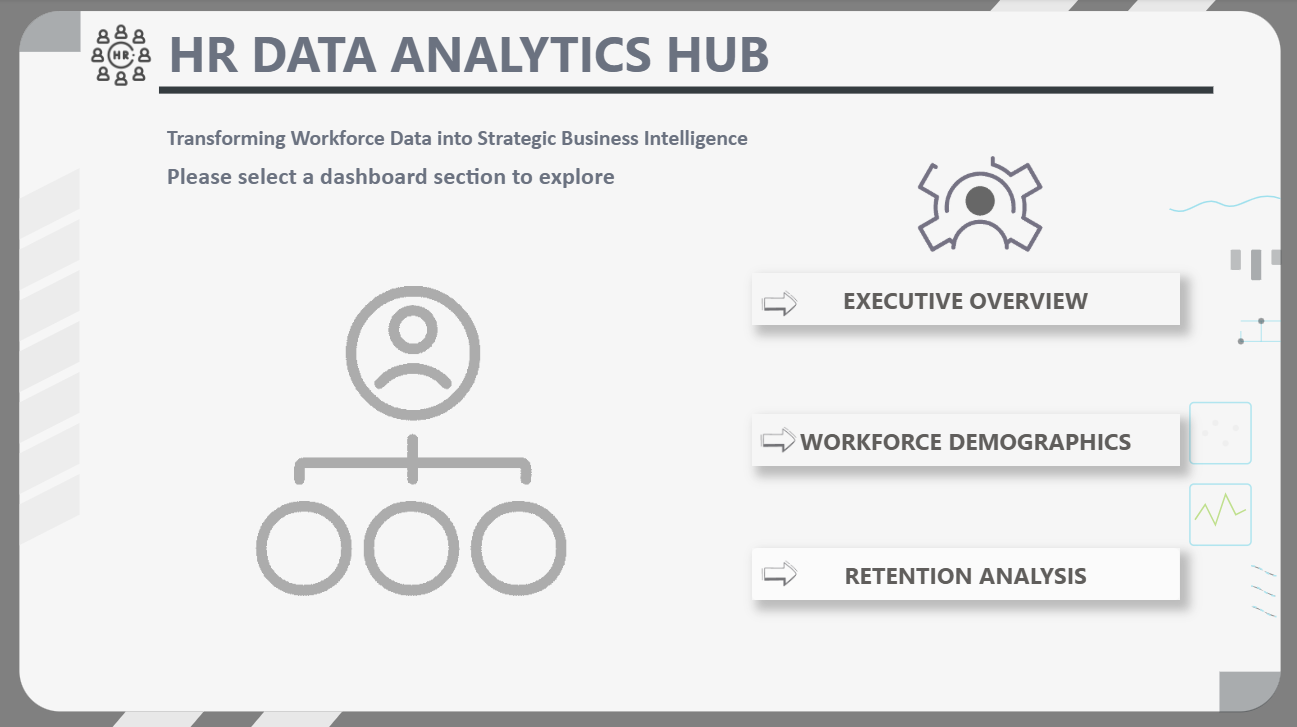

The page's visual inventory and layout, read from the dashboard file:
{"tool":"powerbi","page":{"name":"Navigation Page","canvas":[1280,720],"ordinal":0},"visuals":[{"type":"textbox","box":[161.2,155,500,41.2],"z":0},{"type":"textbox","box":[161.4,15.7,620,80],"z":1000},{"type":"actionButton","box":[740,270,420,51.2],"z":2000},{"type":"actionButton","box":[740,408.8,420,51.2],"z":3000},{"type":"actionButton","box":[740,540,420,51.2],"z":4000},{"type":"image","box":[151.2,241.2,510,386.2],"z":5000},{"type":"textbox","box":[161.2,118.8,715,41.2],"z":6000},{"type":"image","box":[739.9,413.5,50.3,41.7],"z":7000},{"type":"image","box":[741.1,279.8,50.3,41.7],"z":8000},{"type":"image","box":[741.1,544.8,50.3,41.7],"z":9000},{"type":"image","box":[875.7,118.6,177.1,150],"z":10000},{"type":"image","box":[91.2,22.5,60,68.8],"z":11000}]}

Visuals, with their boxes in screenshot pixels (x1, y1, x2, y2), scaled from the page's 1280x720 canvas onto the 1297x727 screenshot:
textbox: [163, 157, 670, 198]
textbox: [164, 16, 792, 97]
actionButton: [750, 273, 1175, 324]
actionButton: [750, 413, 1175, 464]
actionButton: [750, 545, 1175, 597]
image: [153, 244, 670, 633]
textbox: [163, 120, 888, 162]
image: [750, 418, 801, 460]
image: [751, 283, 802, 325]
image: [751, 550, 802, 592]
image: [887, 120, 1067, 271]
image: [92, 23, 153, 92]
